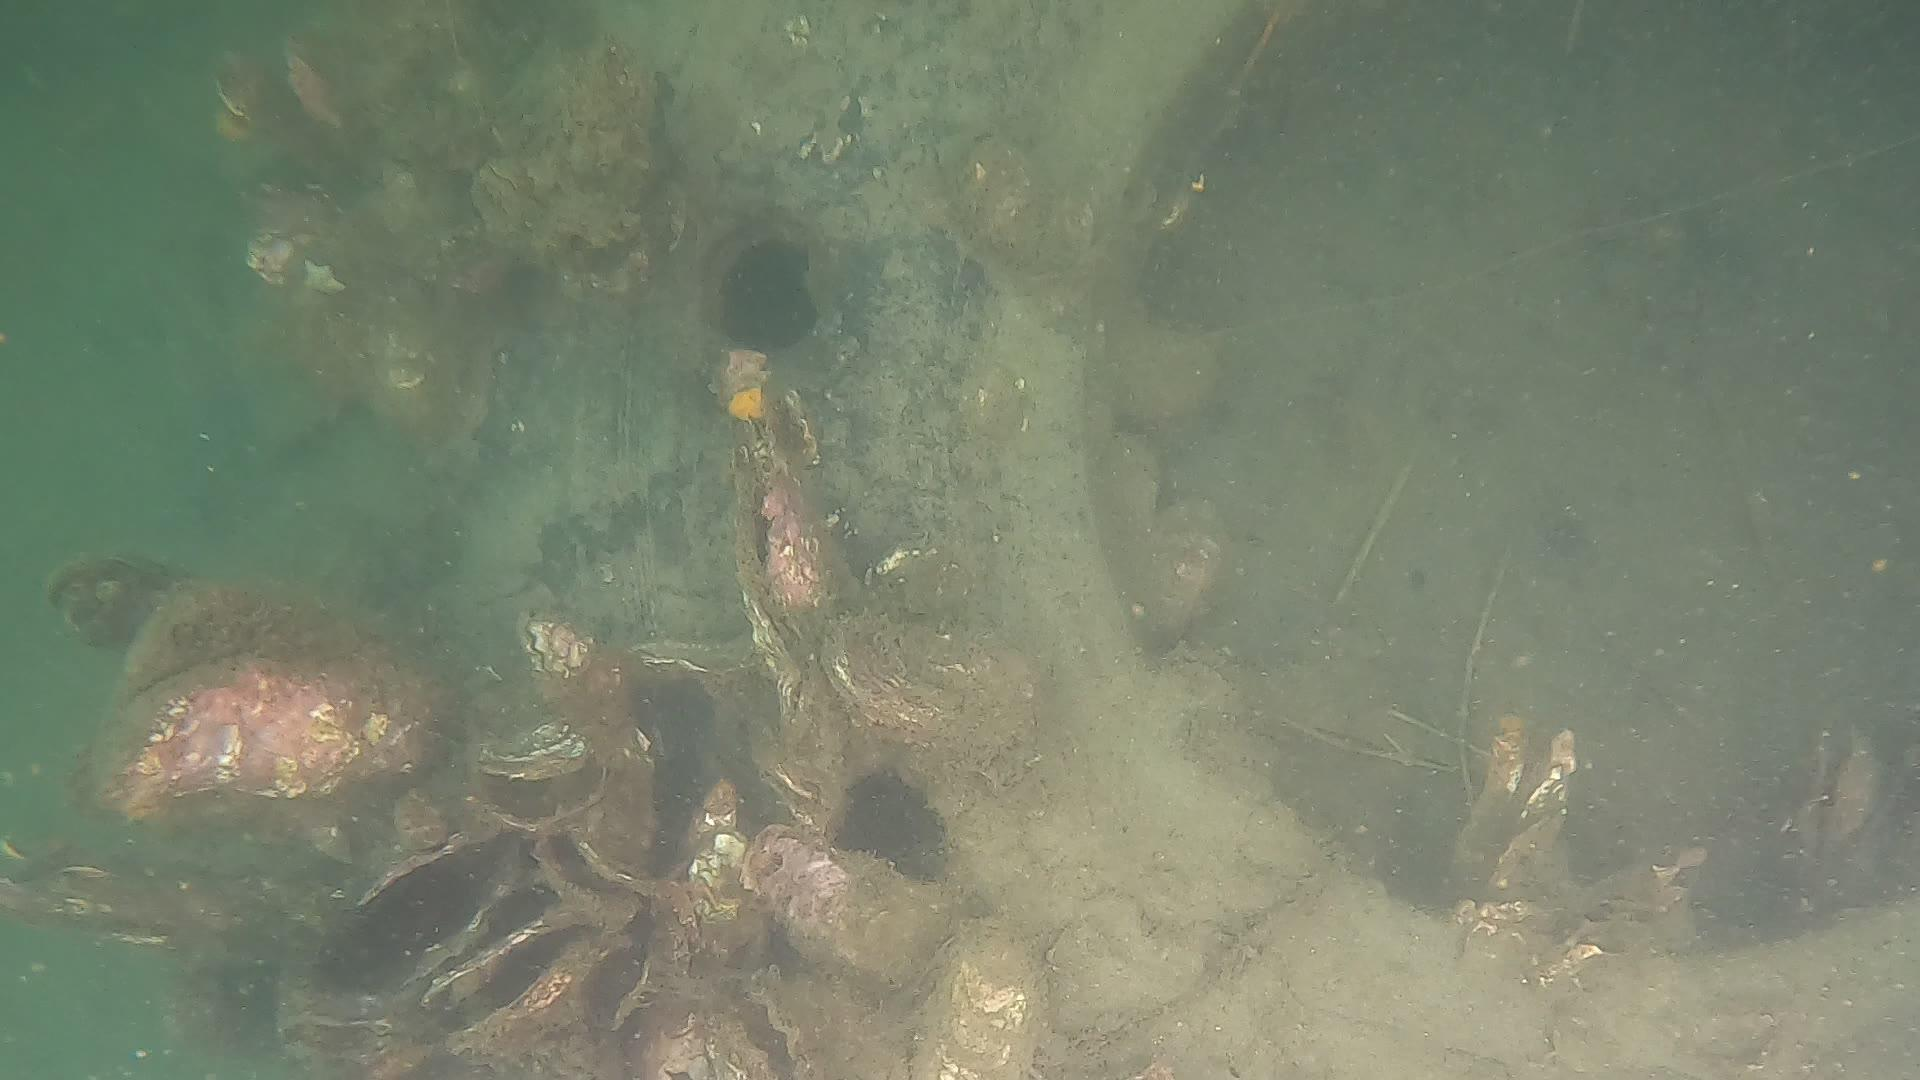tire: (462, 0, 1920, 1080)
